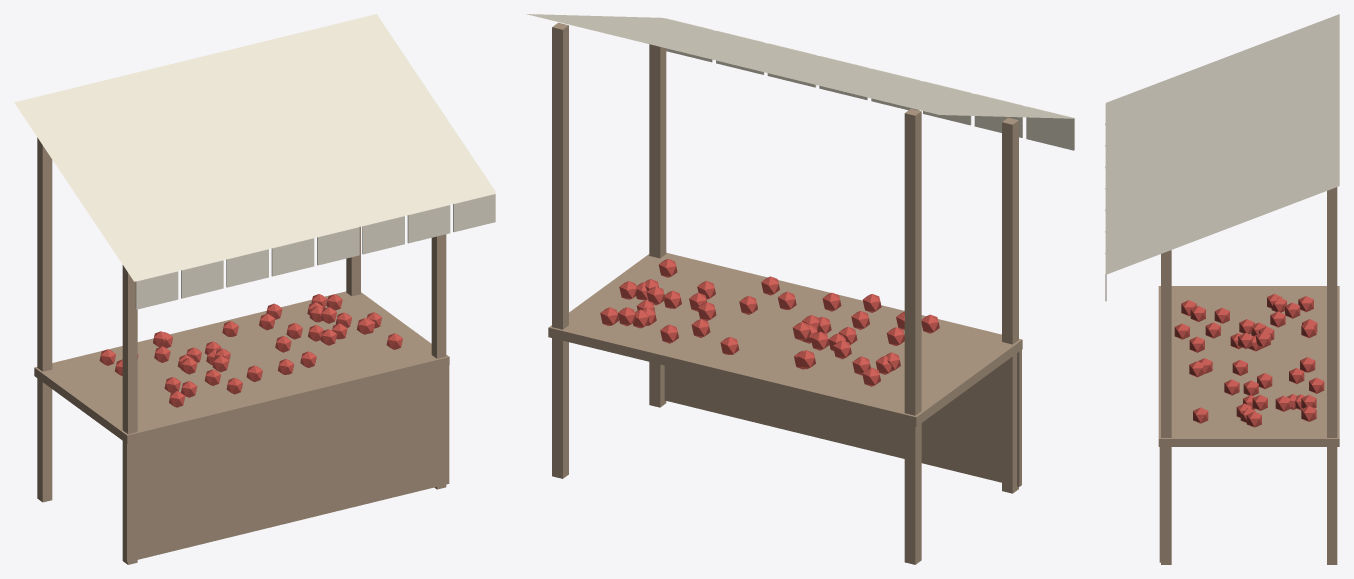
File: stall_produce.glb
The picture shows the model from 3 angles, left to right: view 1: azimuth 30°, elevation 25°; view 2: azimuth 150°, elevation 25°; view 3: azimuth 270°, elevation 25°; orthographic projection. The views are drawn at different scales.
Parts seen in each view (by area): view 1: stall_awning, stall_frame, goods_produce; view 2: stall_frame, stall_awning, goods_produce; view 3: stall_awning, stall_frame, goods_produce.
Boxes of the visible parts, bbox=[...] form: stall_awning: bbox=[14, 14, 496, 309]; stall_frame: bbox=[34, 137, 449, 564]; goods_produce: bbox=[99, 294, 402, 407]; stall_frame: bbox=[548, 22, 1022, 564]; stall_awning: bbox=[526, 14, 1074, 150]; goods_produce: bbox=[600, 259, 939, 386]; stall_awning: bbox=[1105, 14, 1339, 301]; stall_frame: bbox=[1158, 187, 1339, 564]; goods_produce: bbox=[1174, 294, 1324, 427].
Size of the model in its own units: 2.7 by 2.85 by 1.56.
